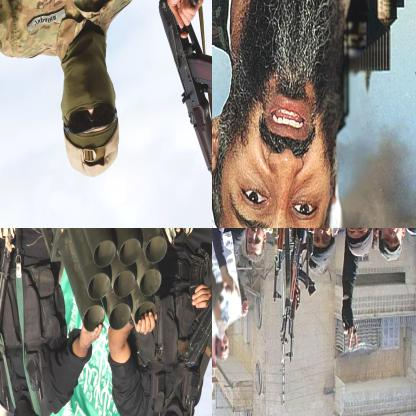rifle: (155, 0, 211, 227), (172, 243, 211, 379), (282, 238, 316, 363), (281, 228, 323, 292), (0, 228, 20, 345), (269, 228, 284, 299)
